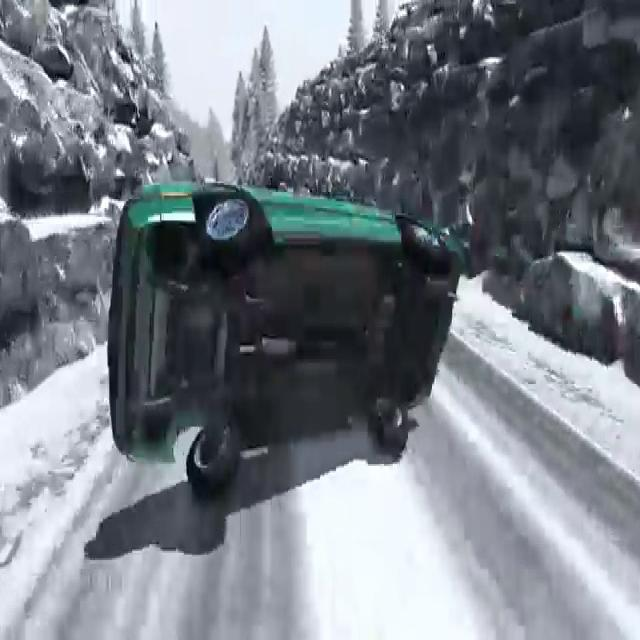severe: (99, 162, 470, 509)
